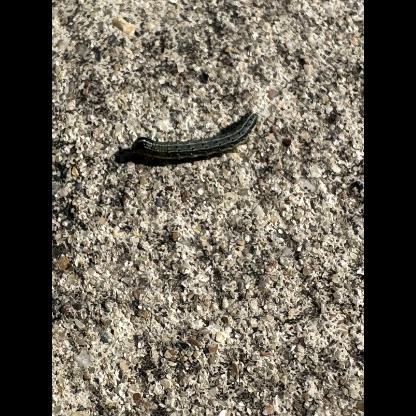Fall Armyworm Larvae: (129, 108, 261, 167)
